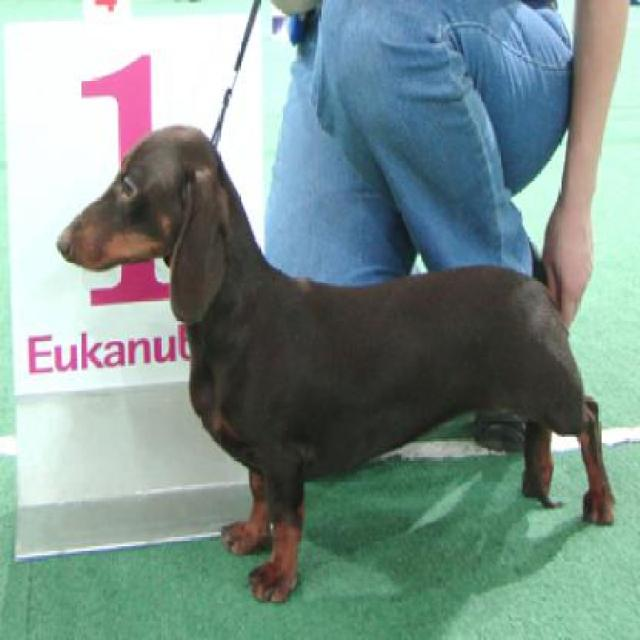Dog: (57, 126, 621, 608)
